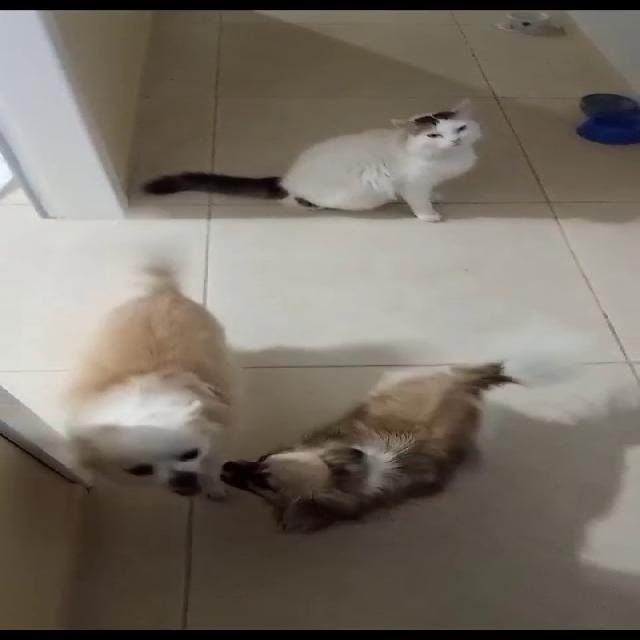Pedrita: (207, 352, 514, 530)
Simba: (239, 77, 523, 248)
Theo: (36, 256, 270, 513)
